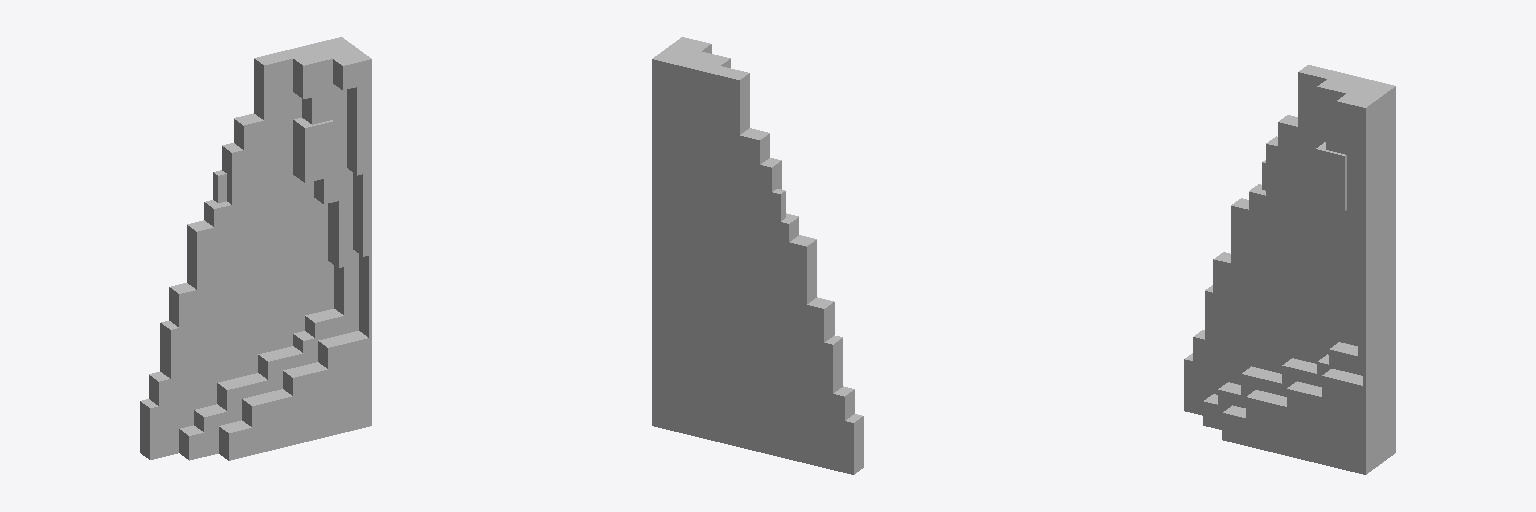
The model's file is wonky.obj.
3 renders of one model, left to right at view 1: azimuth 30°, elevation 25°; view 2: azimuth 150°, elevation 25°; view 3: azimuth 330°, elevation 25°, orthographic.
Size of the model in its own units: 69 by 120 by 18.